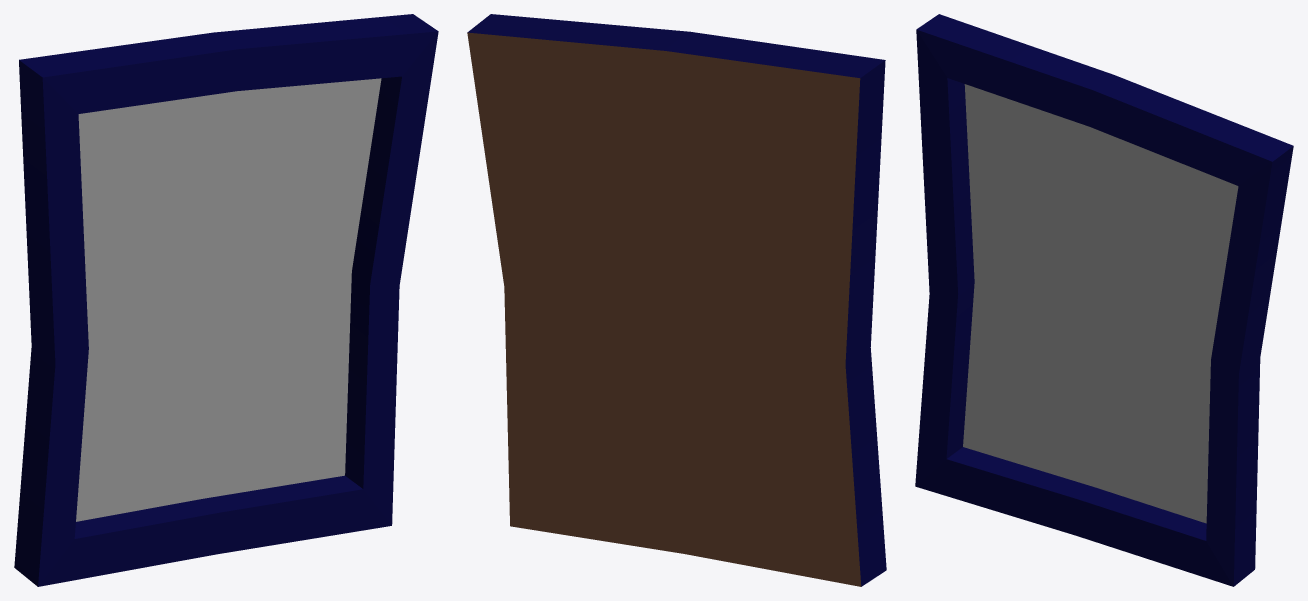
The model's file is Cuadro.fbx.
The picture shows the model from 3 angles, left to right: view 1: azimuth 30°, elevation 25°; view 2: azimuth 150°, elevation 25°; view 3: azimuth 330°, elevation 25°; orthographic projection. The views are drawn at different scales.
Parts seen in each view (by area): view 1: cuadro_1; view 2: cuadro_1; view 3: cuadro_1.
Boxes of the visible parts, box(x1,y1,x2,y2) form: cuadro_1: box(14, 14, 438, 586); cuadro_1: box(467, 14, 886, 586); cuadro_1: box(915, 14, 1293, 586).
Size of the model in its own units: 68.27 by 87.53 by 7.99.
